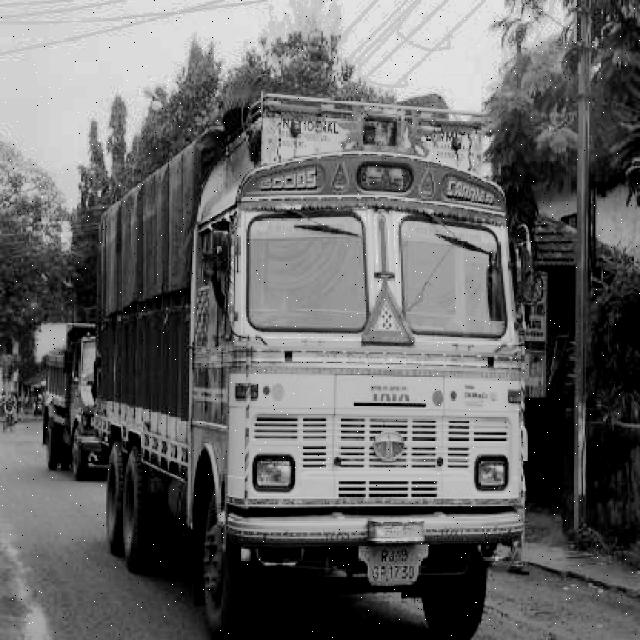HCV: (92, 180, 526, 626)
